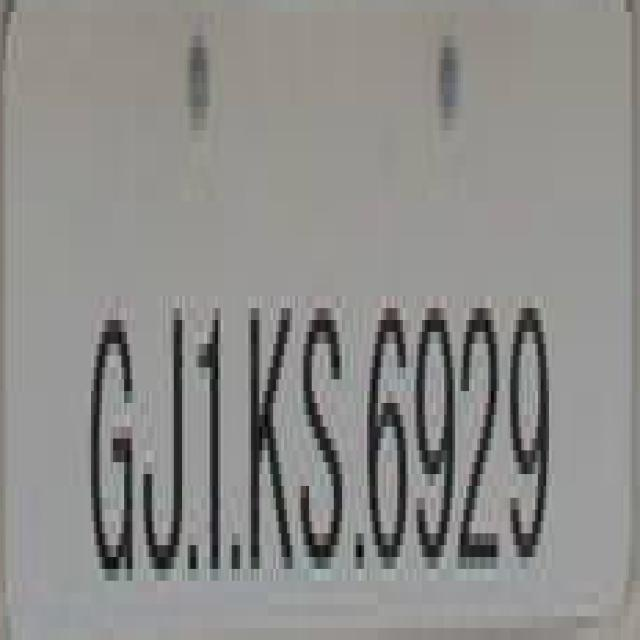license_plate: (0, 35, 607, 640)
